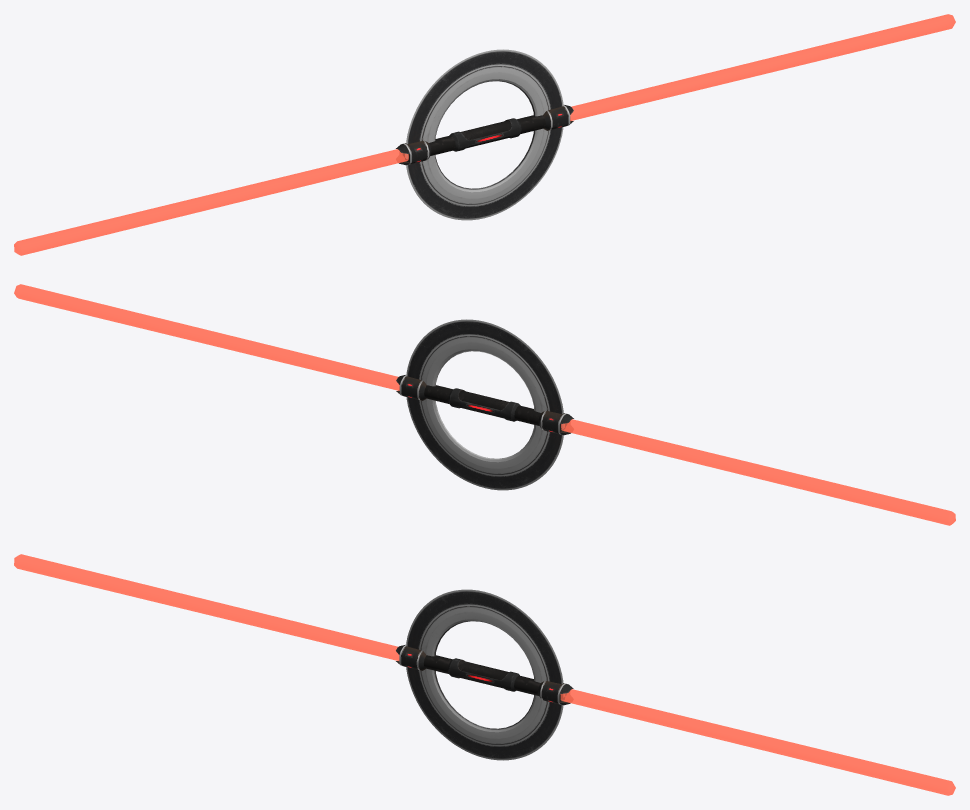
The picture shows the model from 3 angles, top to bottom: view 1: azimuth 30°, elevation 25°; view 2: azimuth 150°, elevation 25°; view 3: azimuth 330°, elevation 25°; orthographic projection.
Parts seen in each view (by area): view 1: _low_Disk, _low_Laser_left, _low_Laser_right, _low_Handle, _low_Handle_middle; view 2: _low_Disk, _low_Laser_left, _low_Laser_right, _low_Handle, _low_Handle_middle; view 3: _low_Disk, _low_Laser_right, _low_Laser_left, _low_Handle, _low_Handle_middle.
Boxes of the visible parts, x1,y1,x2,y2 form: _low_Disk: (406, 49, 563, 220); _low_Laser_left: (14, 149, 408, 255); _low_Laser_right: (570, 14, 955, 121); _low_Handle: (396, 104, 573, 165); _low_Handle_middle: (460, 120, 511, 148); _low_Disk: (406, 319, 563, 490); _low_Laser_left: (561, 419, 955, 525); _low_Laser_right: (14, 284, 399, 390); _low_Handle: (396, 374, 573, 435); _low_Handle_middle: (458, 390, 509, 418); _low_Disk: (406, 589, 563, 760); _low_Laser_right: (560, 689, 955, 795); _low_Laser_left: (14, 554, 399, 660); _low_Handle: (396, 644, 573, 705); _low_Handle_middle: (458, 660, 508, 688).
Bounding box in the file's own units: 125 × 21.16 × 2.49.
2 materials, 2 textured.
